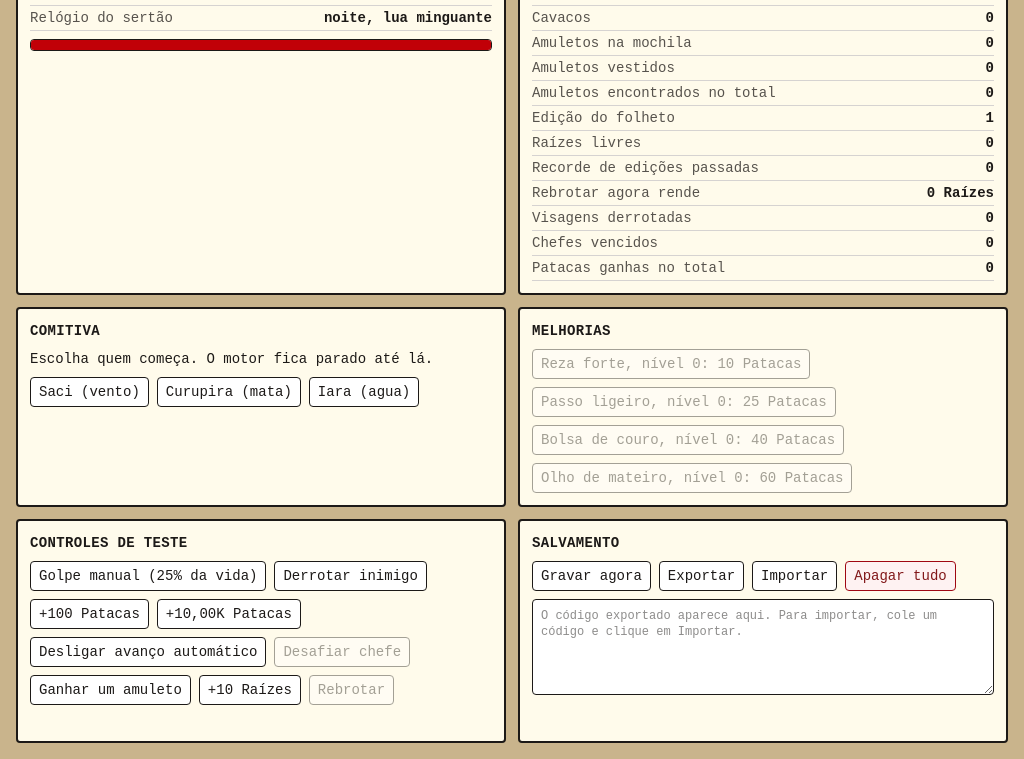
Test: painel de debug › grava no localStorage pelo botão
This screenshot has width=1024, height=759.
(page scrolled)
Click the button "Saci (vento)": (89, 392) [30, 377, 149, 407]
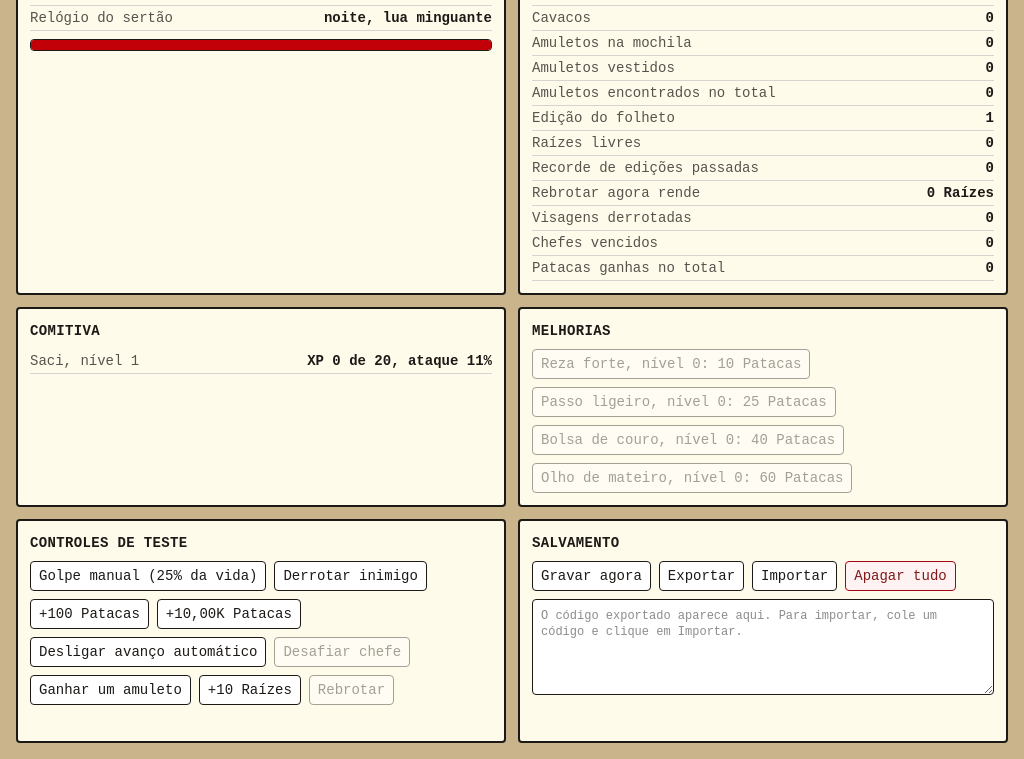
Click the button "Gravar agora": (591, 576) [532, 561, 651, 591]
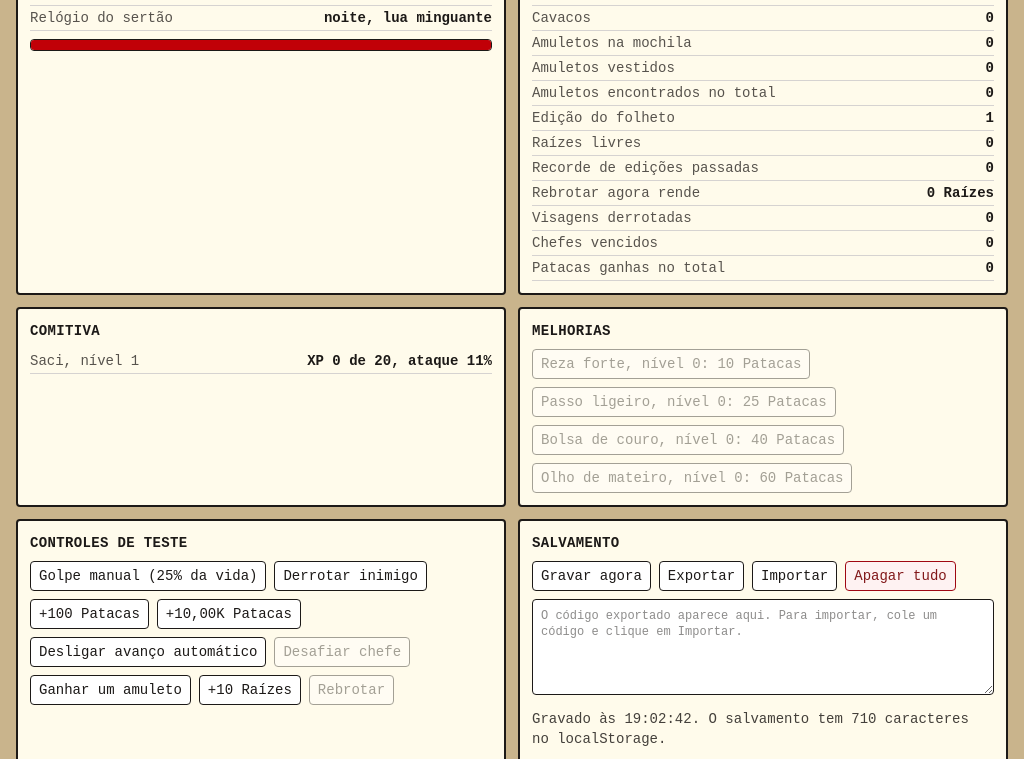
Expected: the text "caracteres no localStorage" is shown, [532, 711, 969, 747]
